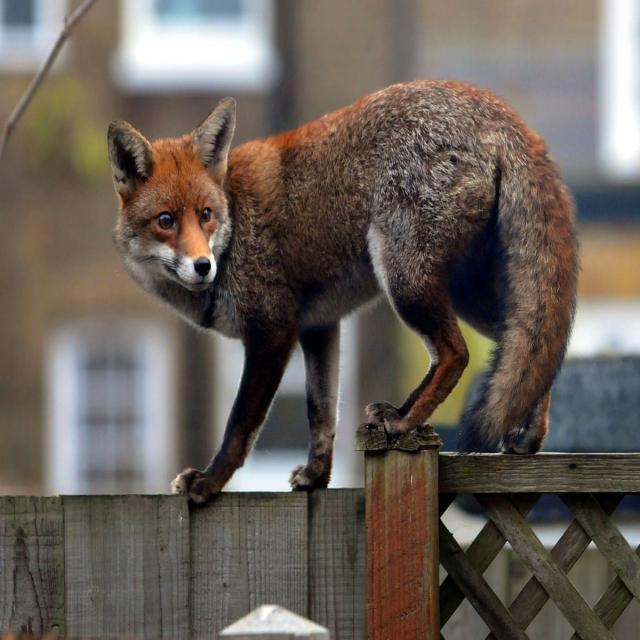fox: (107, 80, 579, 503)
